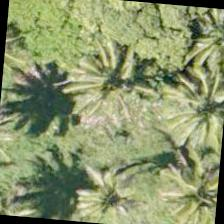Kelapa_Sawit: (73, 42, 171, 140), (65, 147, 163, 223), (162, 57, 223, 154), (155, 148, 221, 223), (167, 5, 223, 89)
